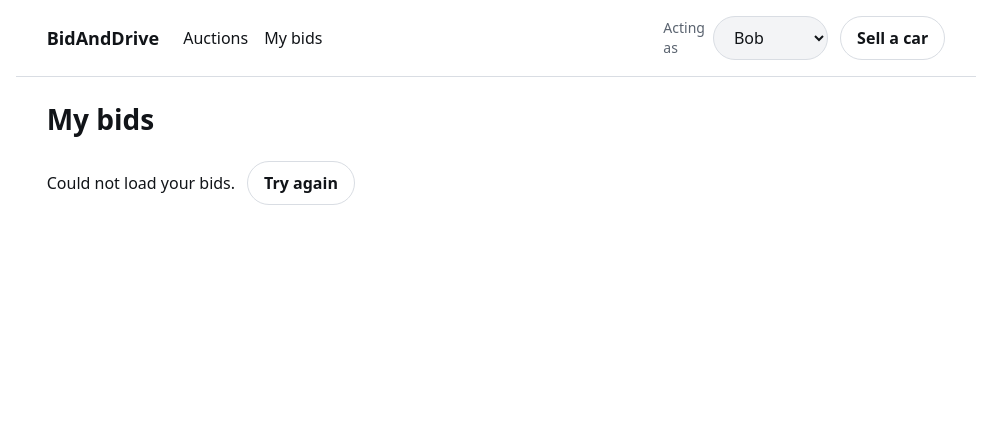
Scenario: MyBidsView › shows an error with a retry that asks again
Expected: the text "Could not load your bids." is shown, [47, 171, 235, 195]
Click the button "Try again". click: {"x": 301, "y": 183}
box: [247, 161, 355, 205]
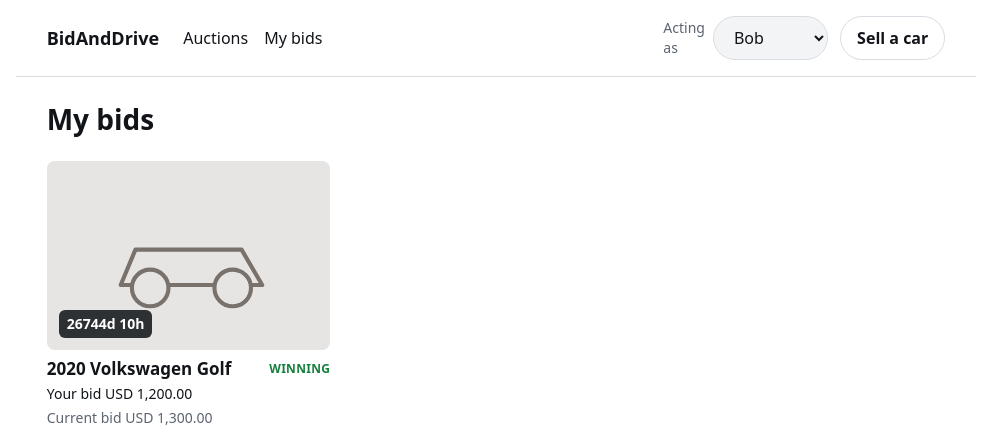
Result: the text "Winning" is shown at [269, 361, 330, 377]
